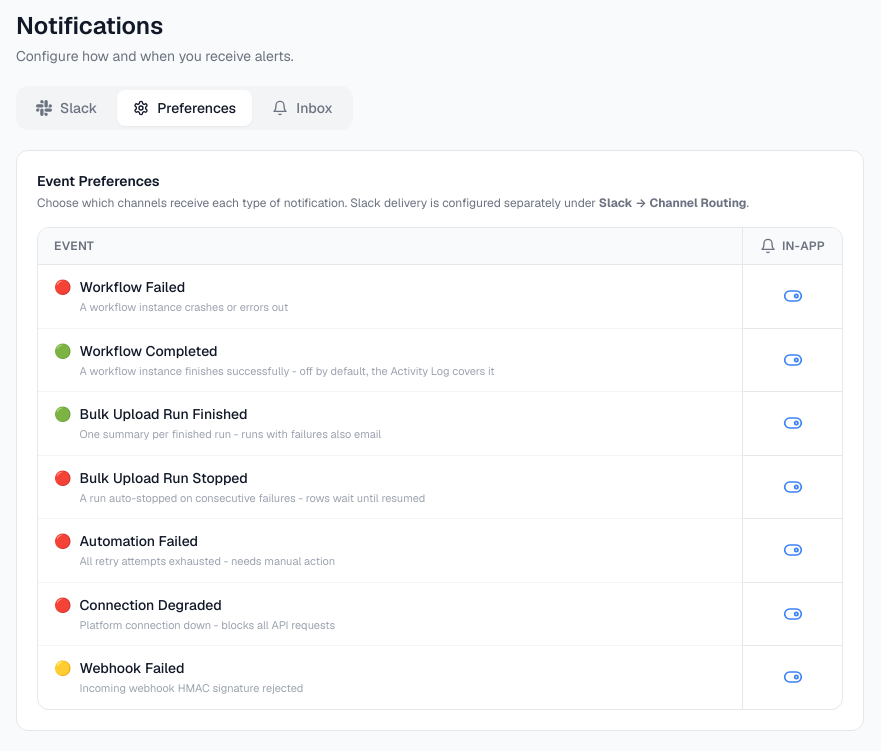
Test: InboxTab › renders notification titles and messages
What coordinates should you click on to do the following:
click the button "Inbox"
I would click on:
 (302, 108)
Its box is [256,90,349,126].
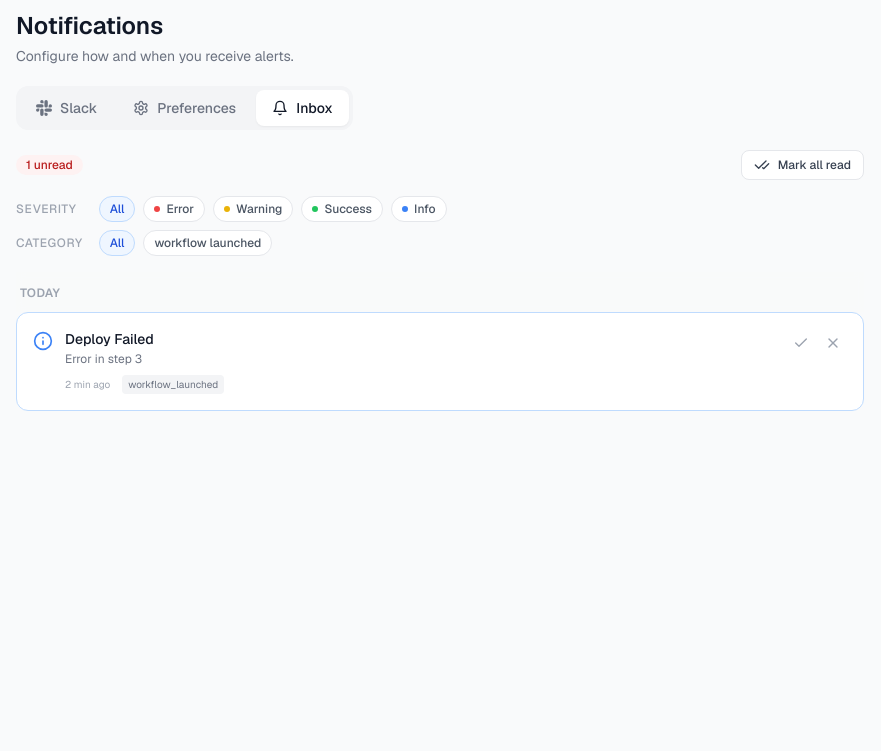
Check: the text "Deploy Failed" is shown, box [65,330,154,348]
Check: the text "Error in step 3" is shown, box [65,351,142,367]
